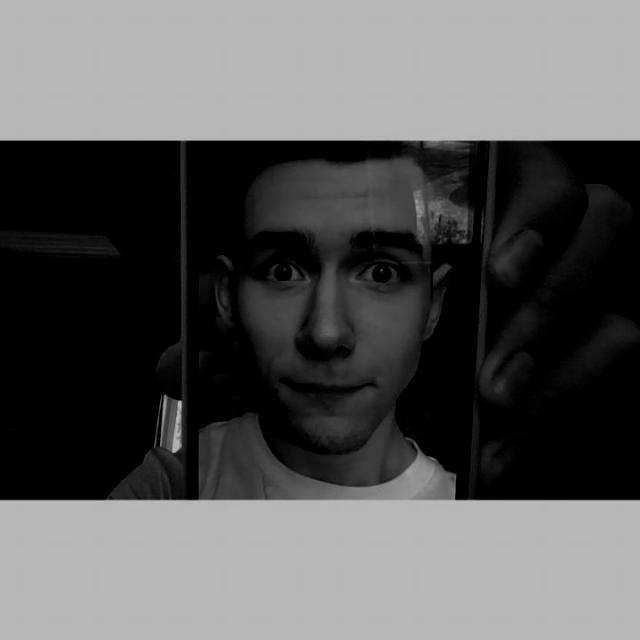fake: (172, 140, 498, 498)
